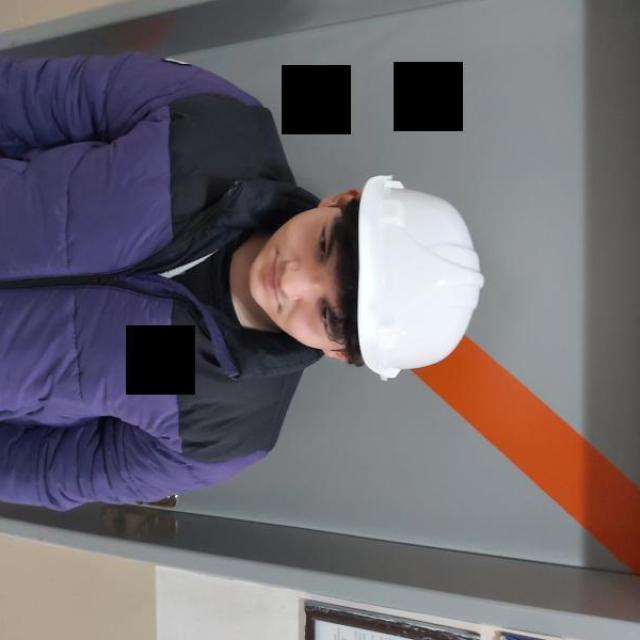helmet: (356, 173, 486, 381)
